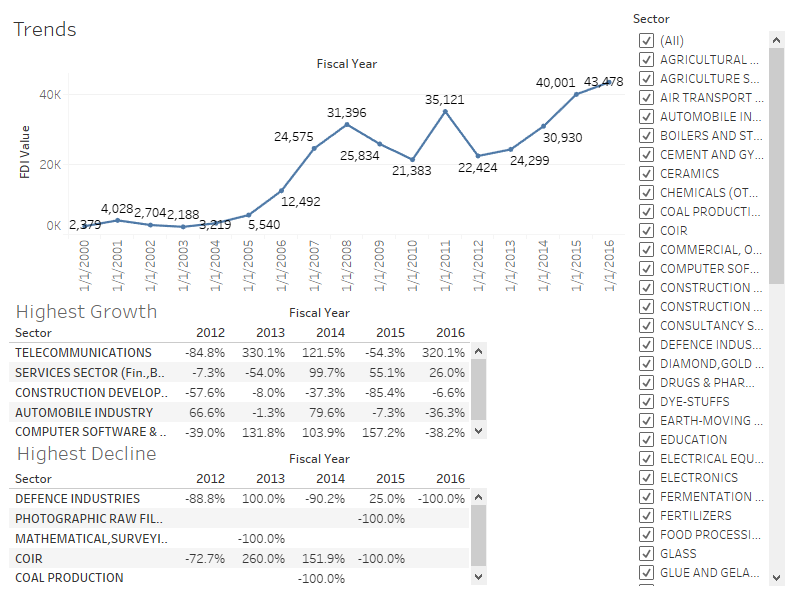

What the dashboard file says about the page in this screenshot:
{"tool":"tableau","page":{"name":"Dashboard 2","canvas":[800,600],"ordinal":1},"visuals":[{"type":"worksheet","box":[0,0,800,600]},{"type":"worksheet","param":"horz","box":[8,8,784,584]},{"type":"worksheet","box":[8,8,624,584]},{"type":"worksheet","title":"Trends","mark":"Line","rows":["Pivot Field Values"],"cols":["Calculation_307933692484055040"],"box":[8,8,624,292]},{"type":"worksheet","param":"vert","box":[632,8,160,584]},{"type":"worksheet","title":"Trends","mark":"Line","rows":["Pivot Field Values"],"cols":["Calculation_307933692484055040"],"param":"[federated.1skucmb0c9w6hb1dbcbba0i32f8y].[none:Sector:nk]","box":[632,8,160,584]},{"type":"worksheet","param":"vert","box":[8,300,624,292]},{"type":"worksheet","title":"Highest Growth","mark":"Automatic","rows":["Sector"],"cols":["Calculation_307933692484055040"],"box":[8,300,624,146]},{"type":"worksheet","box":[4,422,171,66]},{"type":"worksheet","title":"Highest Decline","mark":"Automatic","rows":["Sector"],"cols":["Calculation_307933692484055040"],"box":[8,446,624,146]}]}

Visuals, with their boxes in screenshot pixels (x1, y1, x2, y2), scaled from the page's 800x600 canvas onto the 790x594 screenshot:
worksheet: x1=0 y1=0 x2=789 y2=593
worksheet: x1=8 y1=8 x2=782 y2=586
worksheet: x1=8 y1=8 x2=624 y2=586
"Trends" worksheet (Line marks): x1=8 y1=8 x2=624 y2=297
worksheet: x1=624 y1=8 x2=782 y2=586
"Trends" worksheet (Line marks): x1=624 y1=8 x2=782 y2=586
worksheet: x1=8 y1=297 x2=624 y2=586
"Highest Growth" worksheet: x1=8 y1=297 x2=624 y2=442
worksheet: x1=4 y1=418 x2=173 y2=483
"Highest Decline" worksheet: x1=8 y1=442 x2=624 y2=586
